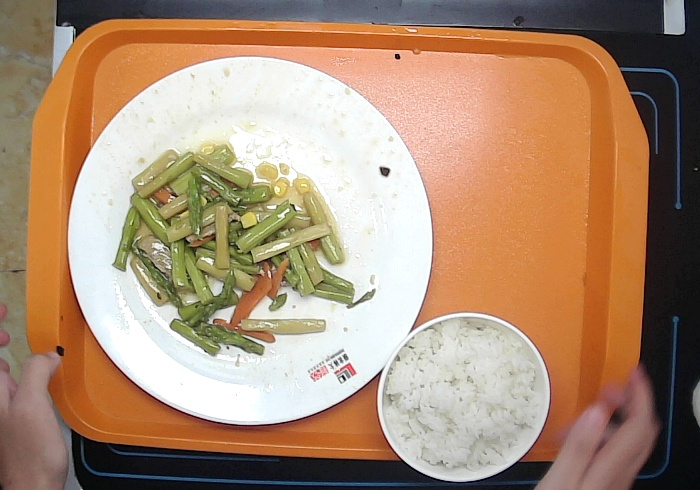ZNLD-Da_Yuan_Pan: (65, 54, 434, 427)
ZNLD-Fan_Wan: (374, 309, 552, 483)
